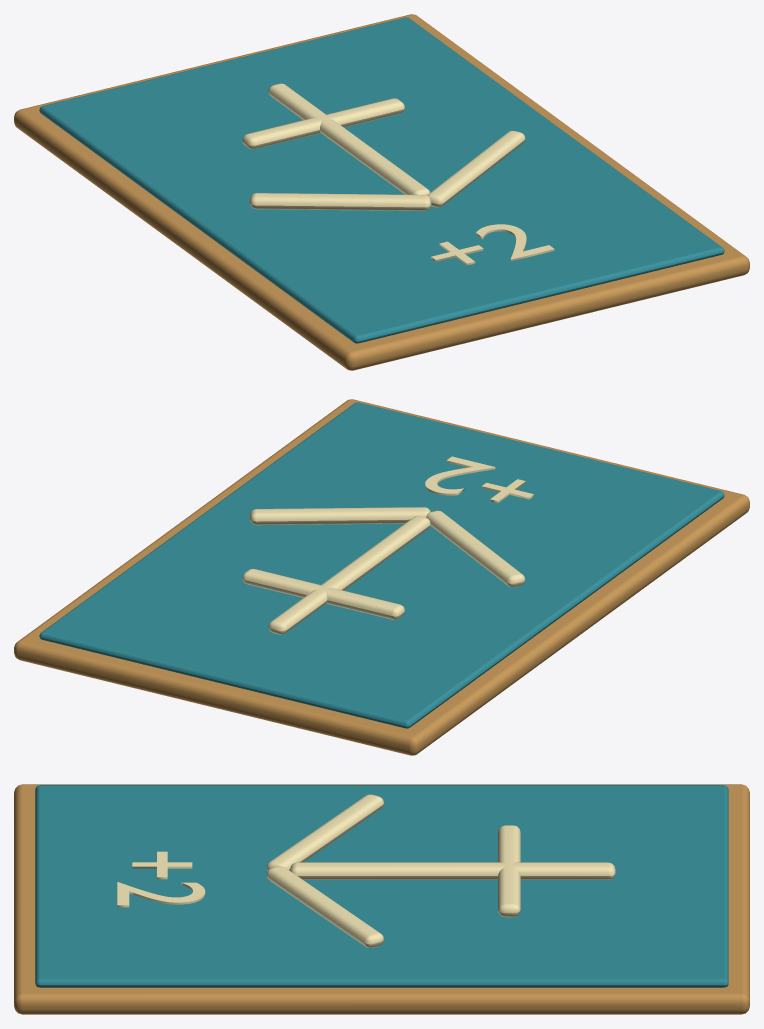
File: harbormaster.fbx
3 views of the same model, one above another, from view 1: azimuth 30°, elevation 25°; view 2: azimuth 150°, elevation 25°; view 3: azimuth 270°, elevation 25° (orthographic). The views are drawn at different scales.
Parts seen in each view (by area): view 1: harbormaster; view 2: harbormaster; view 3: harbormaster.
Boxes of the visible parts, left/top/right/bottom form: harbormaster: left=14, top=14, right=749, bottom=370; harbormaster: left=14, top=399, right=749, bottom=755; harbormaster: left=14, top=784, right=749, bottom=1014.
Size of the model in its own units: 3.6 by 0.35 by 5.2.
